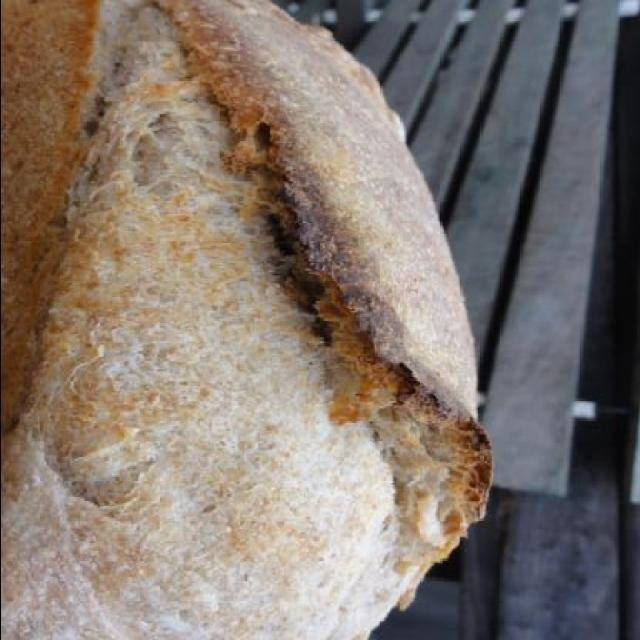Bread: (20, 1, 497, 604)
